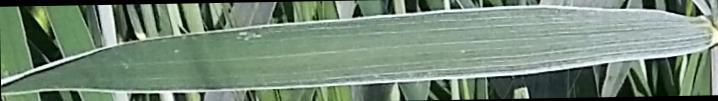Wheat: (282, 26, 380, 82), (144, 44, 268, 86), (396, 21, 476, 69), (490, 15, 573, 58), (590, 16, 688, 48)
